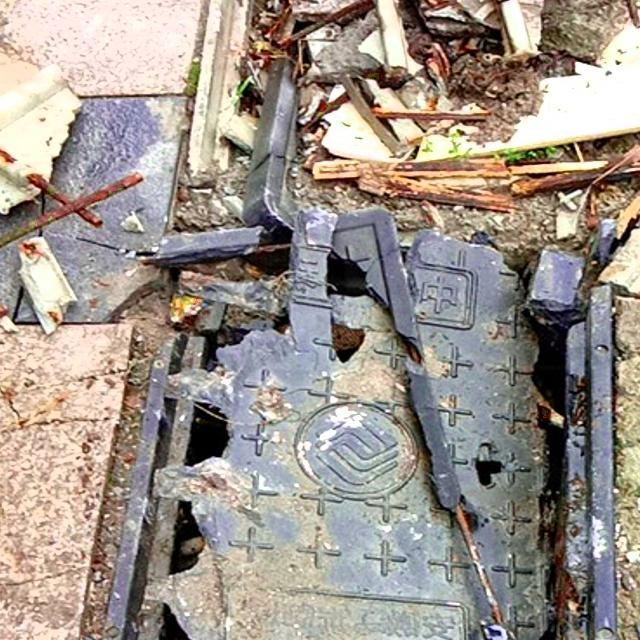broke: (67, 223, 640, 640), (185, 0, 640, 187)
